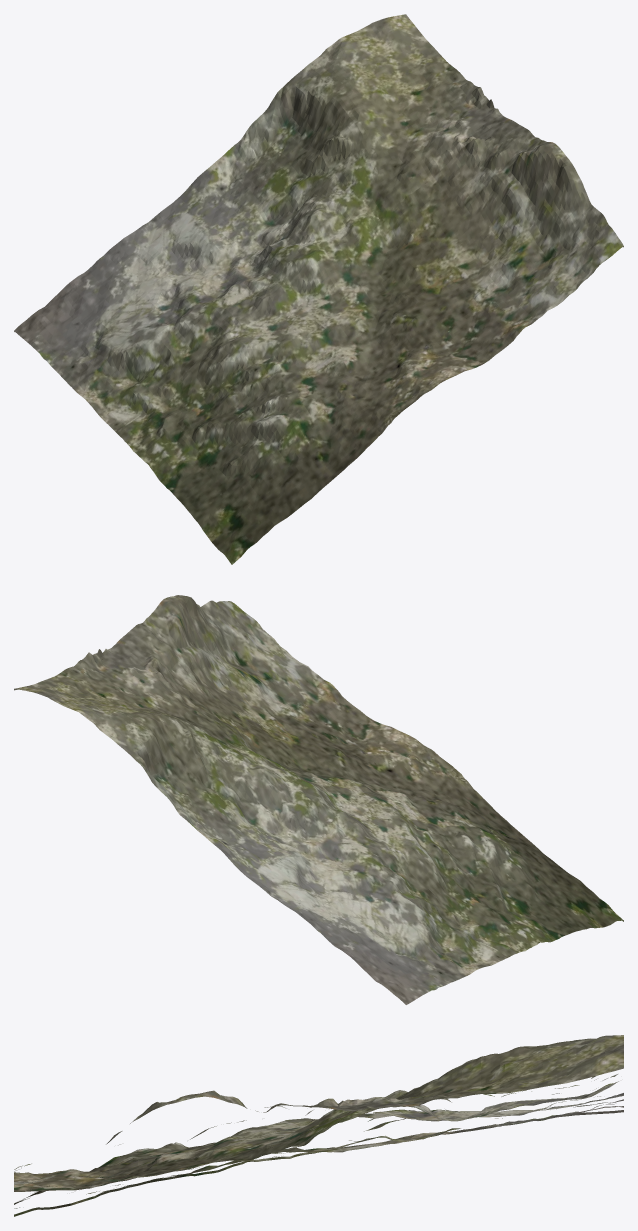
The picture shows the model from 3 angles, top to bottom: view 1: azimuth 30°, elevation 25°; view 2: azimuth 150°, elevation 25°; view 3: azimuth 270°, elevation 25°; orthographic projection. The views are drawn at different scales.
Size of the model in its own units: 250 by 182 by 241.
Materials: 1 (1 with a texture image).
